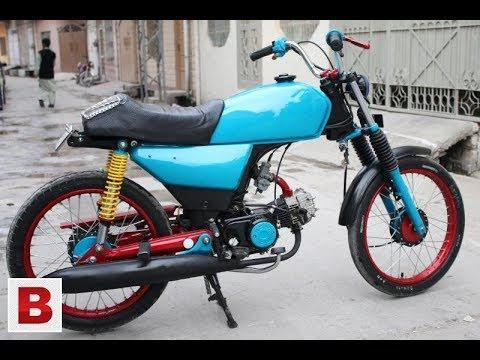motorcycle: (7, 24, 463, 324)
